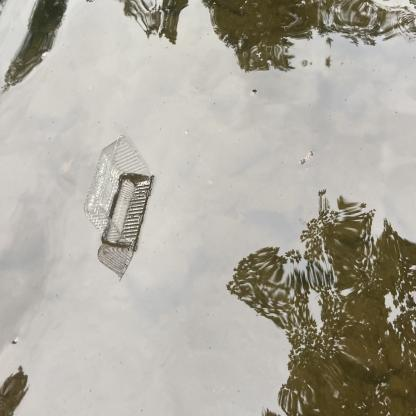trash: (83, 128, 157, 254)
